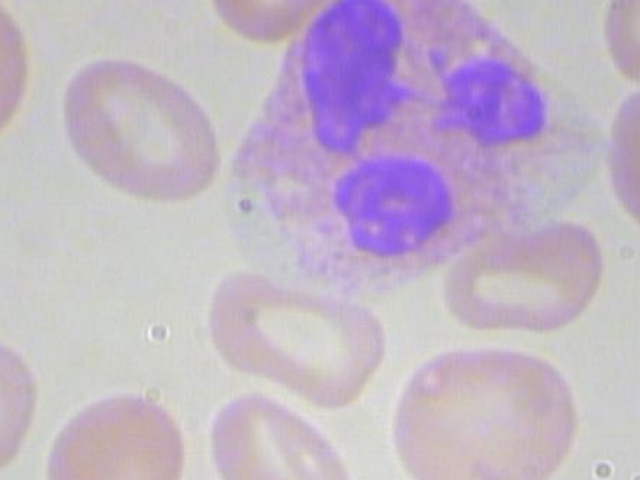RBC: (36, 40, 227, 212), (199, 267, 402, 408), (390, 337, 581, 480), (440, 211, 616, 340), (36, 381, 196, 480), (202, 384, 362, 480), (0, 0, 57, 151), (0, 324, 44, 480), (206, 0, 344, 48), (602, 69, 640, 241), (589, 0, 640, 99)
WBC: (180, 0, 591, 290)
